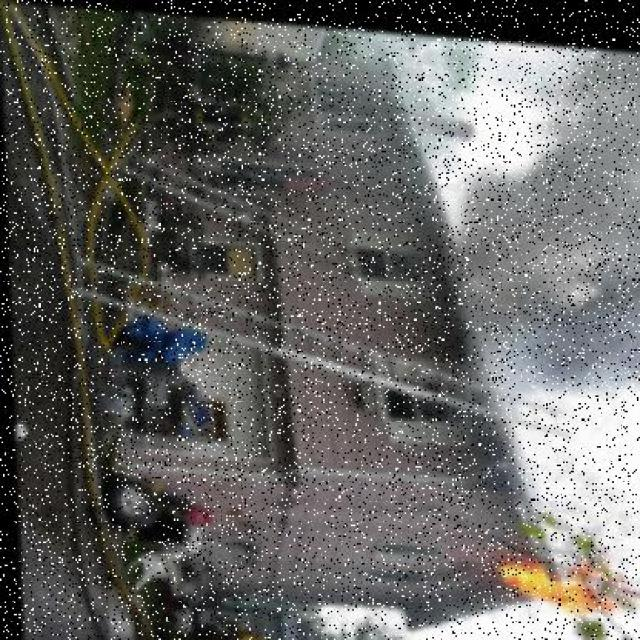fire: (486, 531, 640, 634)
